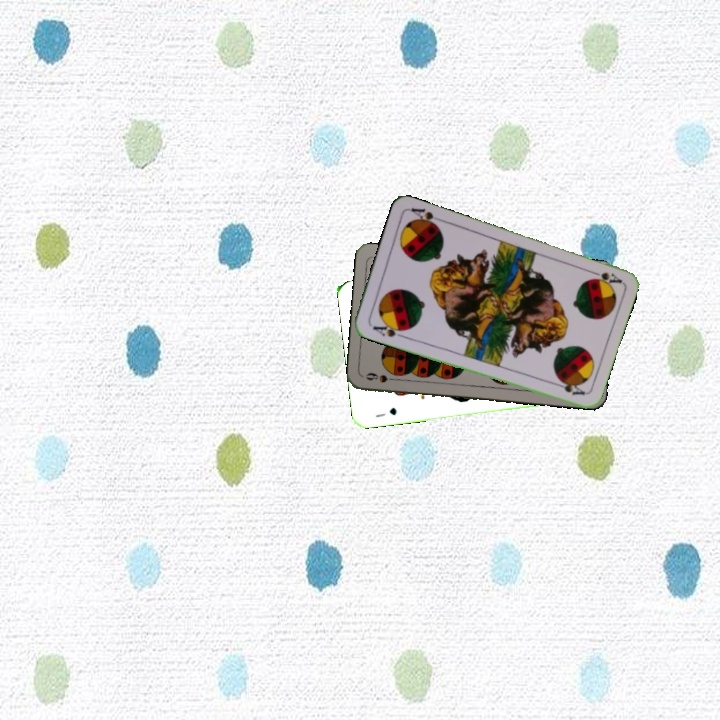GU: (372, 403, 399, 420)
S9: (361, 368, 402, 385)
SA: (584, 266, 624, 289), (369, 318, 409, 340)
